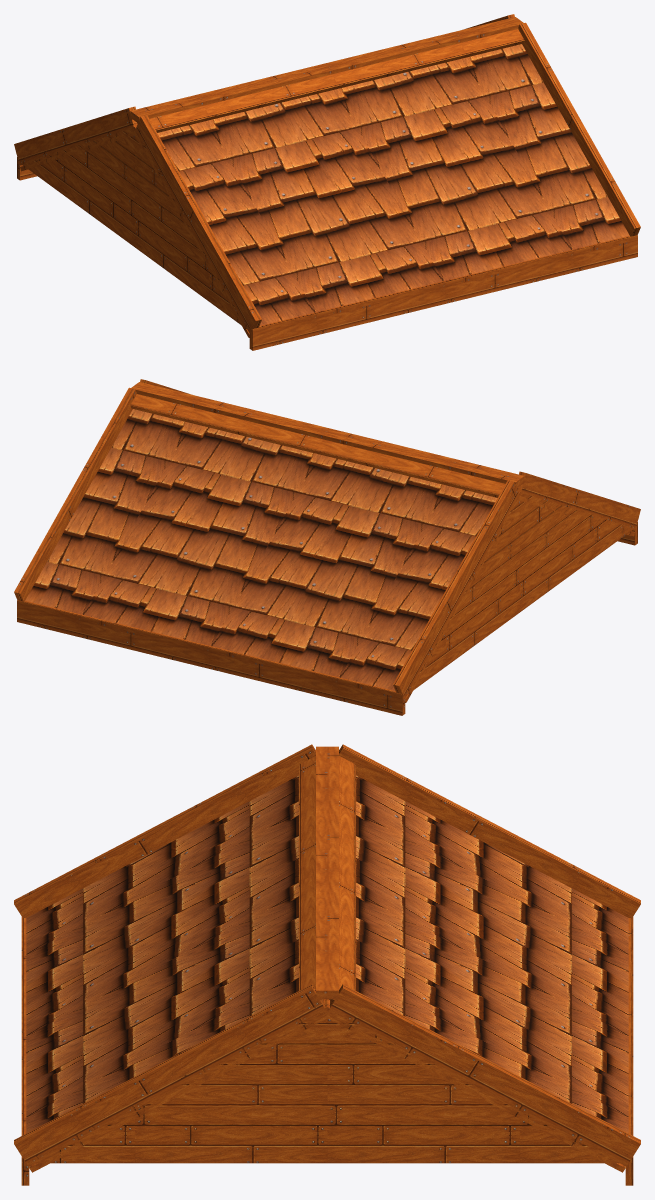
Rendered from Roof_Gable_3x3_NoEave.fbx.
3 renders of one model, top to bottom at view 1: azimuth 30°, elevation 25°; view 2: azimuth 150°, elevation 25°; view 3: azimuth 270°, elevation 25°, orthographic. The views are drawn at different scales.
Parts seen in each view (by area): view 1: Roof_Gable_3x3_NoEave; view 2: Roof_Gable_3x3_NoEave; view 3: Roof_Gable_3x3_NoEave.
Part boxes in pixels (bbox=[...]): Roof_Gable_3x3_NoEave: bbox=[14, 14, 640, 350]; Roof_Gable_3x3_NoEave: bbox=[14, 379, 640, 715]; Roof_Gable_3x3_NoEave: bbox=[14, 744, 640, 1185].
Size of the model in its own units: 3 by 1.13 by 3.26.
